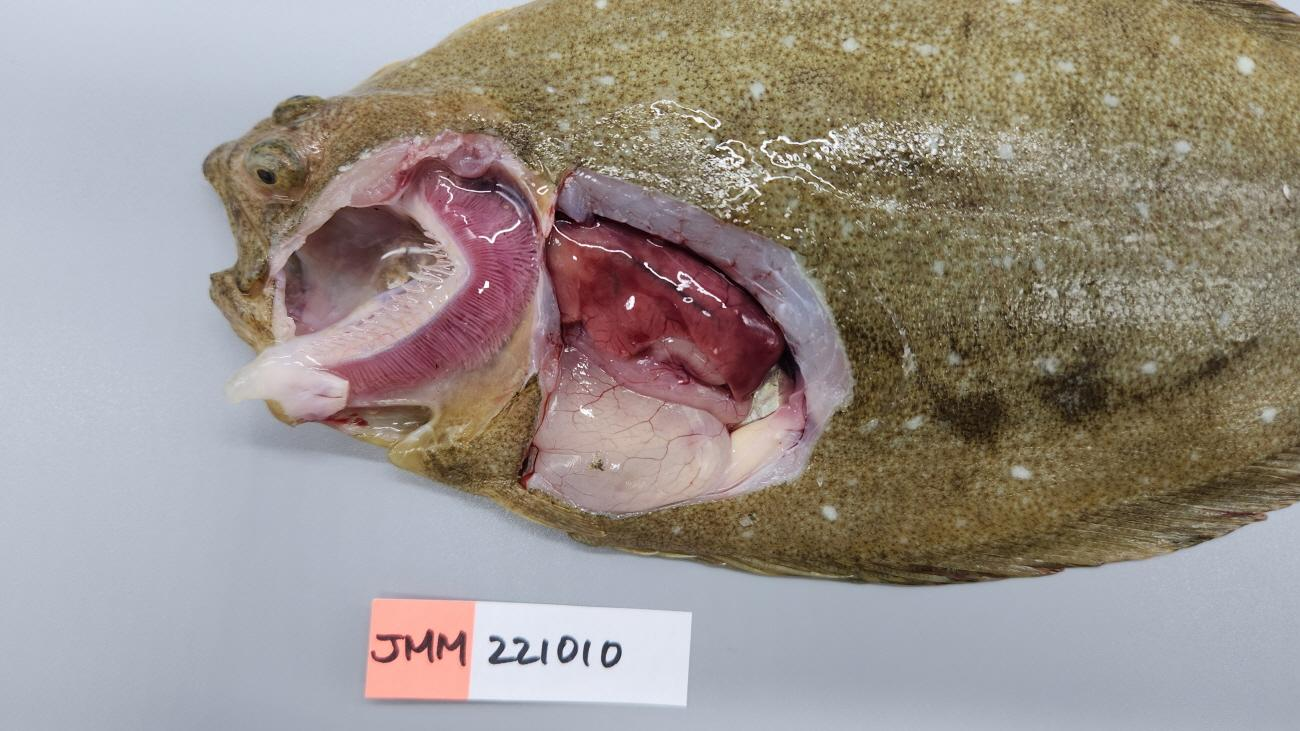SPLIC: (632, 329, 649, 341)
